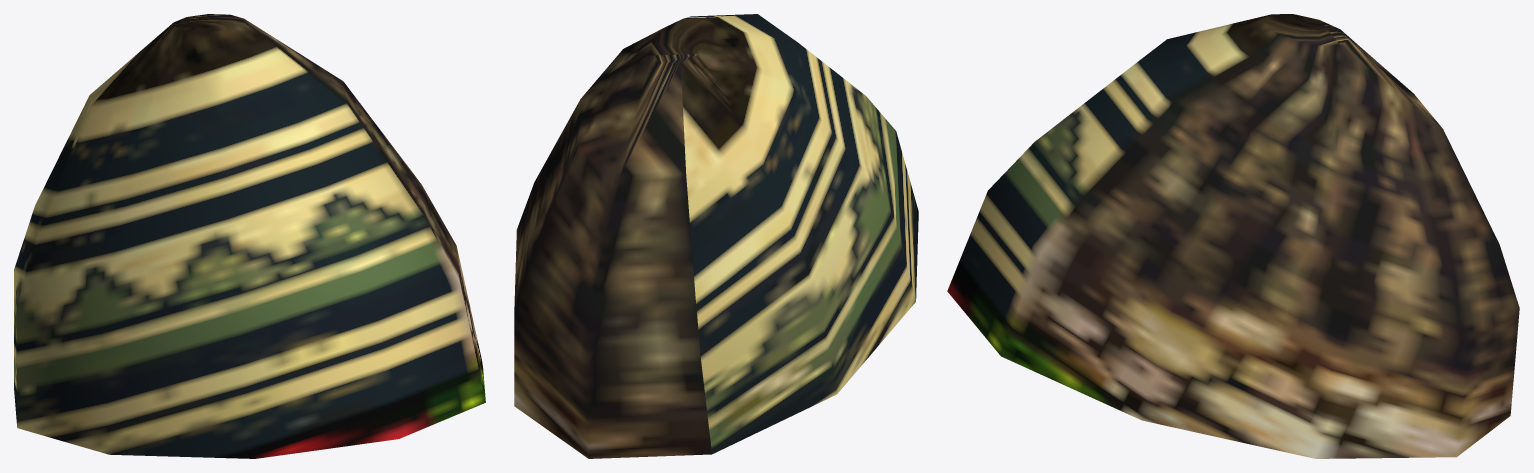
File: inca_b_2.dae
The picture shows the model from 3 angles, left to right: view 1: azimuth 30°, elevation 25°; view 2: azimuth 150°, elevation 25°; view 3: azimuth 270°, elevation 25°; orthographic projection. The views are drawn at different scales.
Parts seen in each view (by area): view 1: inca_b_02; view 2: inca_b_02; view 3: inca_b_02.
Boxes of the visible parts, x1,y1,x2,y2 form: inca_b_02: [14, 14, 485, 458]; inca_b_02: [514, 14, 918, 458]; inca_b_02: [947, 14, 1519, 458].
Size of the model in its own units: 0.4255 by 0.5976 by 0.4554.
